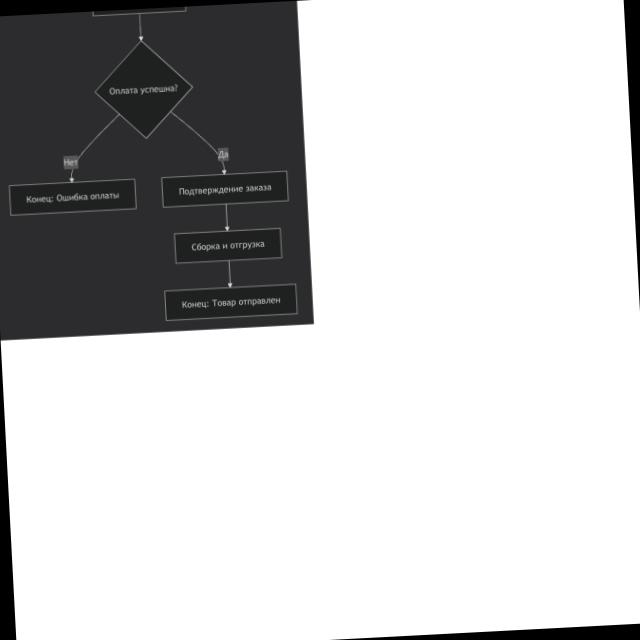arrow: (170, 108, 228, 176), (66, 114, 122, 183), (136, 14, 144, 42), (223, 204, 230, 232), (226, 260, 233, 288)
diamond: (97, 42, 192, 137)
rectangle: (165, 284, 298, 321), (10, 180, 136, 215), (162, 172, 288, 207), (174, 228, 282, 263)
text_region: (64, 158, 78, 167), (217, 150, 229, 160)
